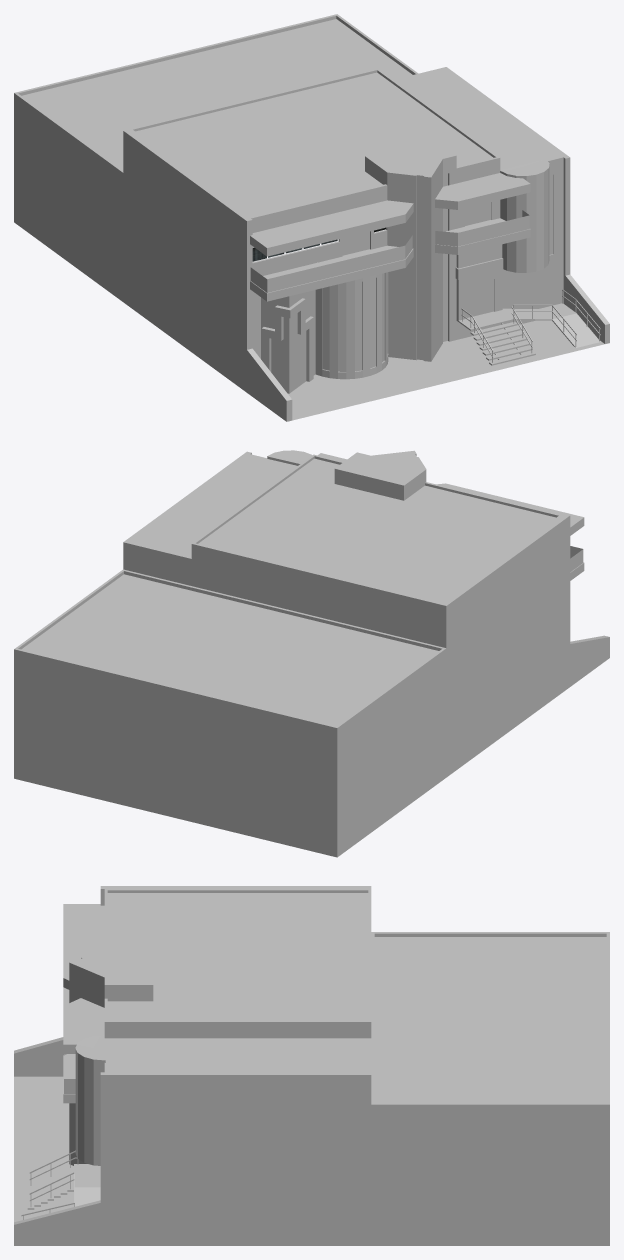
3 renders of one model, top to bottom at view 1: azimuth 30°, elevation 25°; view 2: azimuth 150°, elevation 25°; view 3: azimuth 270°, elevation 25°, orthographic. The views are drawn at different scales.
Parts seen in each view (by area): view 1: BB-023; view 2: BB-023; view 3: BB-023.
Boxes of the visible parts, <box> form: BB-023: <box>14,14,609,421</box>; BB-023: <box>14,450,609,857</box>; BB-023: <box>14,886,609,1245</box>.
Size of what is drawn, in the model's own units: 24.64 by 13.43 by 36.
